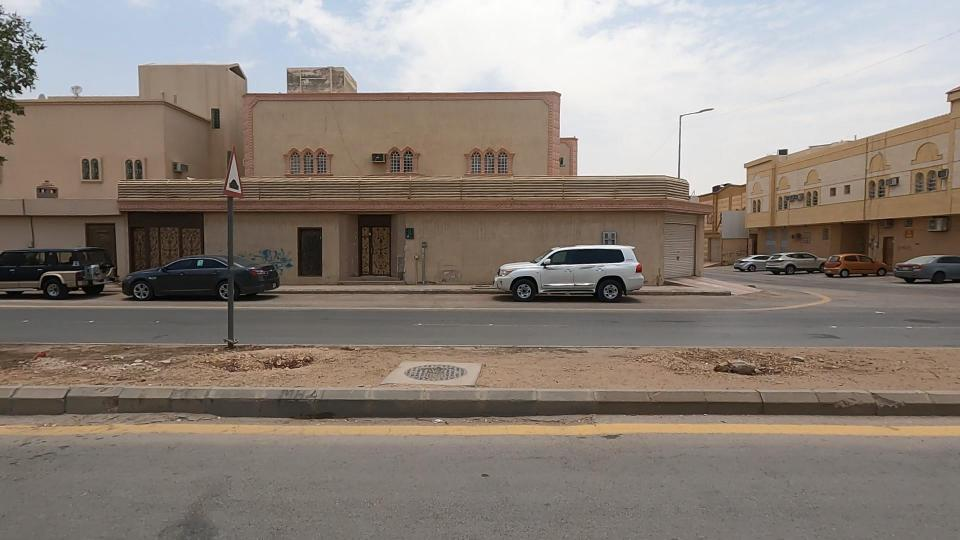GARBAGE: (59, 329, 220, 389)
GRAFFITI: (203, 227, 332, 300)
